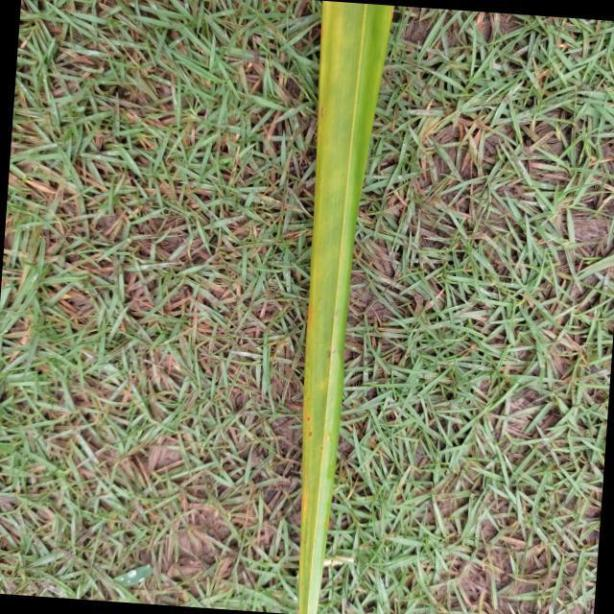nitrogen: (298, 0, 398, 614)
